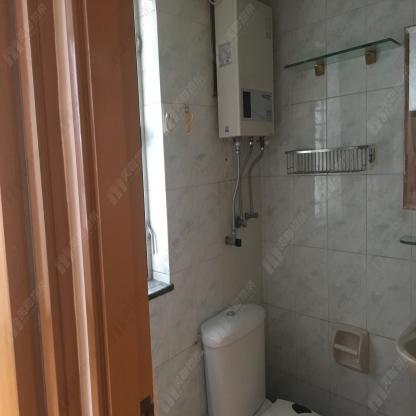Toilet: (200, 305, 320, 414)
Water Heater: (214, 0, 276, 138)
